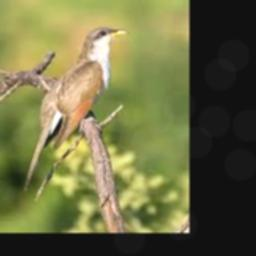Cuckoo: (24, 27, 128, 190)
